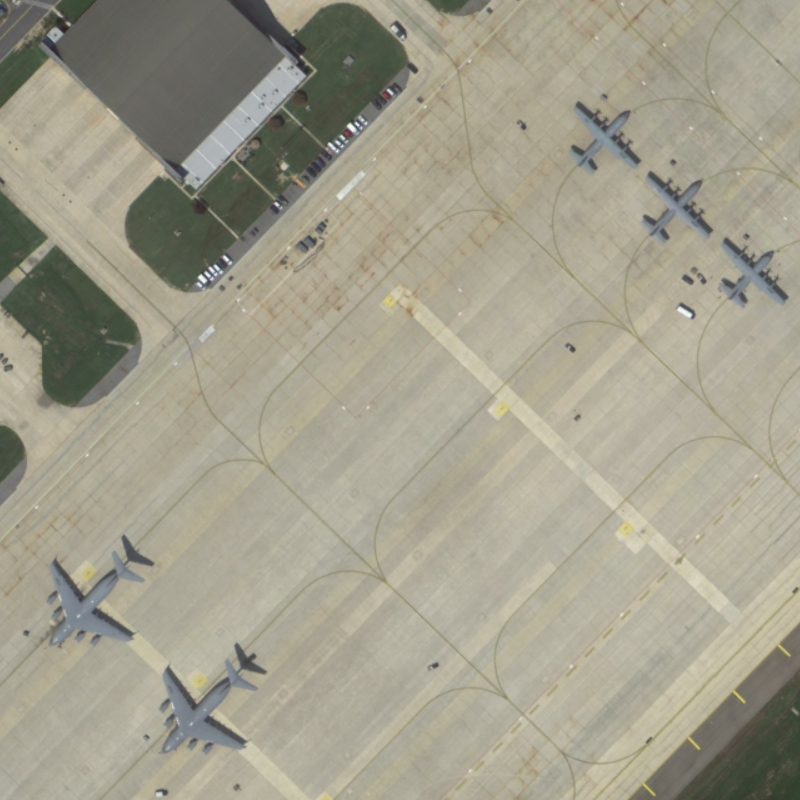A2: (565, 98, 642, 177), (636, 169, 717, 244), (717, 233, 790, 311)
A3: (154, 654, 265, 761), (39, 547, 148, 652)
